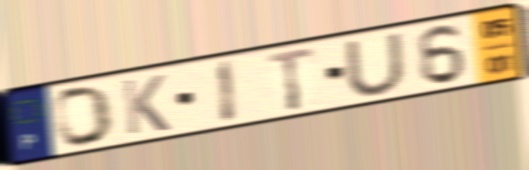6: (414, 21, 470, 87)
I: (215, 57, 240, 126)
K: (118, 72, 172, 138)
O: (52, 83, 117, 149)
T: (265, 44, 318, 113)
U: (341, 29, 410, 98)
